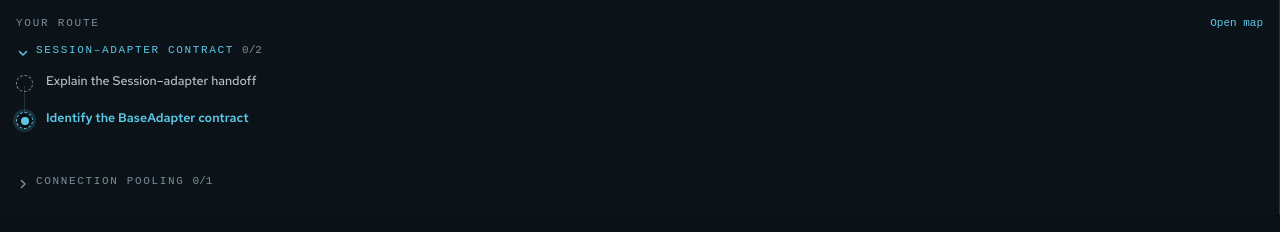
Test case: collapsed means collapsed (note 5) › re-expanding brings them back
This screenshot has width=1280, height=232.
Click the button named "Collapse Session–Adapter contract" at (23, 53), box [16,46,30,60]
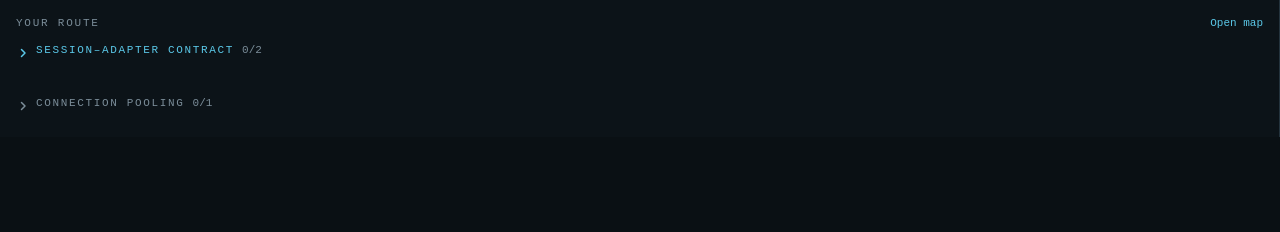
Click the button named "Expand Session–Adapter contract" at (23, 53), box [16,46,30,60]
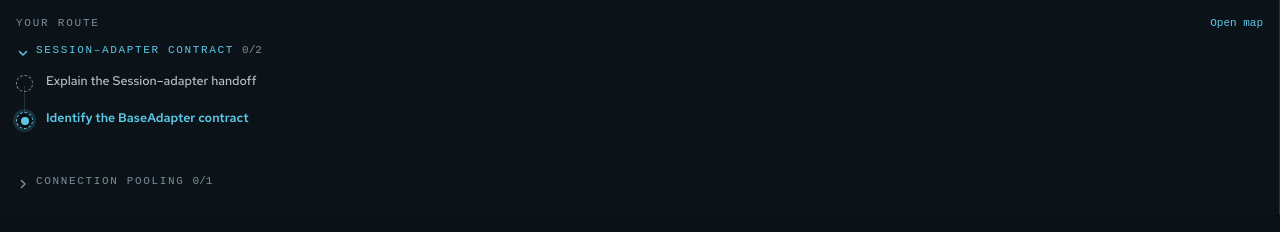
expect the text "Identify the BaseAdapter contract" is shown: met, box [46,109,248,126]
